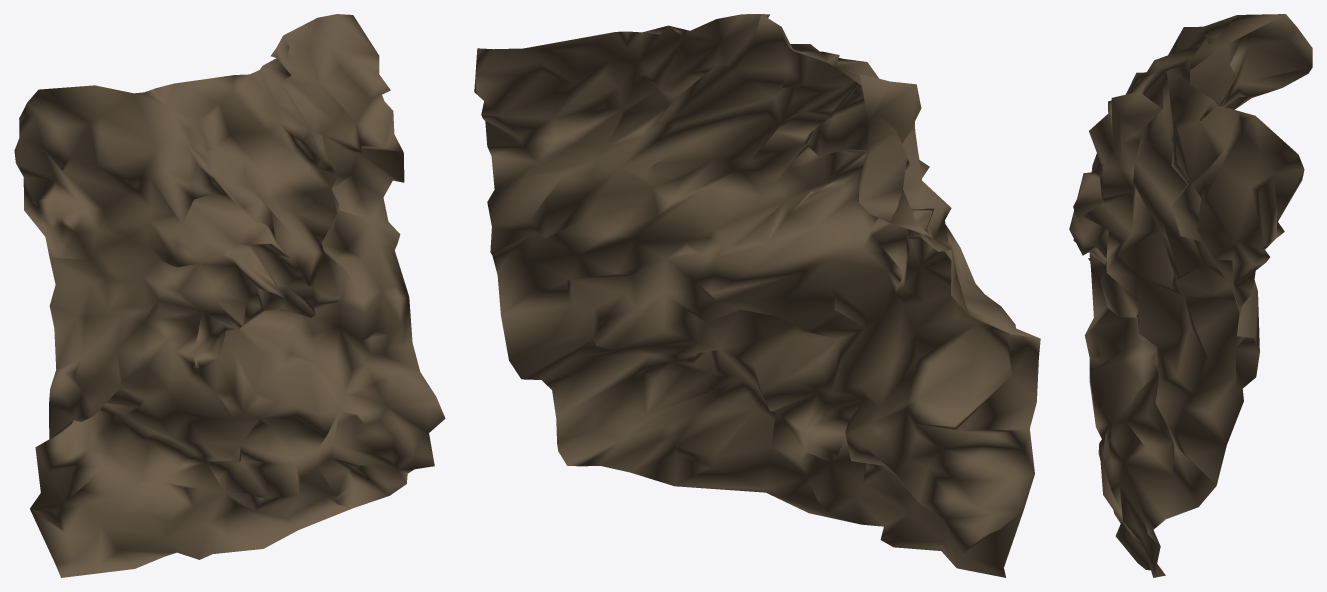
File: mountainside-lod2.glb
3 renders of one model, left to right at view 1: azimuth 30°, elevation 25°; view 2: azimuth 150°, elevation 25°; view 3: azimuth 270°, elevation 25°, orthographic. The views are drawn at different scales.
Visible parts, largest first — view 1: mountainside; view 2: mountainside; view 3: mountainside.
Boxes of the visible parts, bbox=[...] form: mountainside: bbox=[14, 14, 445, 577]; mountainside: bbox=[474, 14, 1040, 577]; mountainside: bbox=[1069, 14, 1312, 577].
Bounding box in the file's own units: 10.16 × 10.52 × 5.24.
